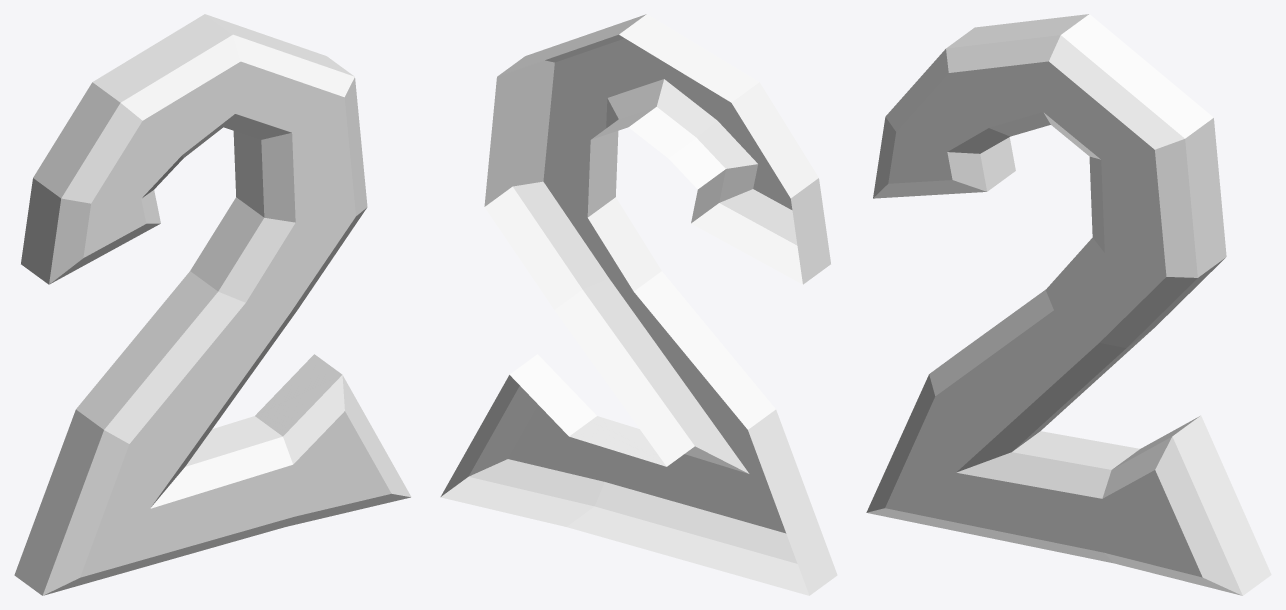
Rendered from Number_02.fbx.
3 views of the same model, side by side, from view 1: azimuth 30°, elevation 25°; view 2: azimuth 150°, elevation 25°; view 3: azimuth 330°, elevation 25° (orthographic). The views are drawn at different scales.
Visible parts, largest first — view 1: Number02_Model; view 2: Number02_Model; view 3: Number02_Model.
Part boxes in pixels (left/top/right/bottom): Number02_Model: left=14, top=14, right=411, bottom=595; Number02_Model: left=440, top=14, right=837, bottom=595; Number02_Model: left=866, top=14, right=1271, bottom=595.
Bounding box in the file's own units: 89.83 × 120 × 15.96.
